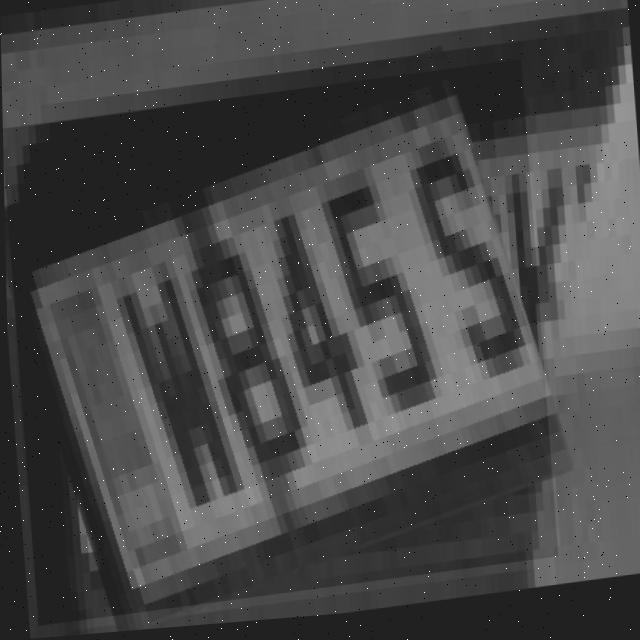LicensePlate: (2, 66, 556, 627)
